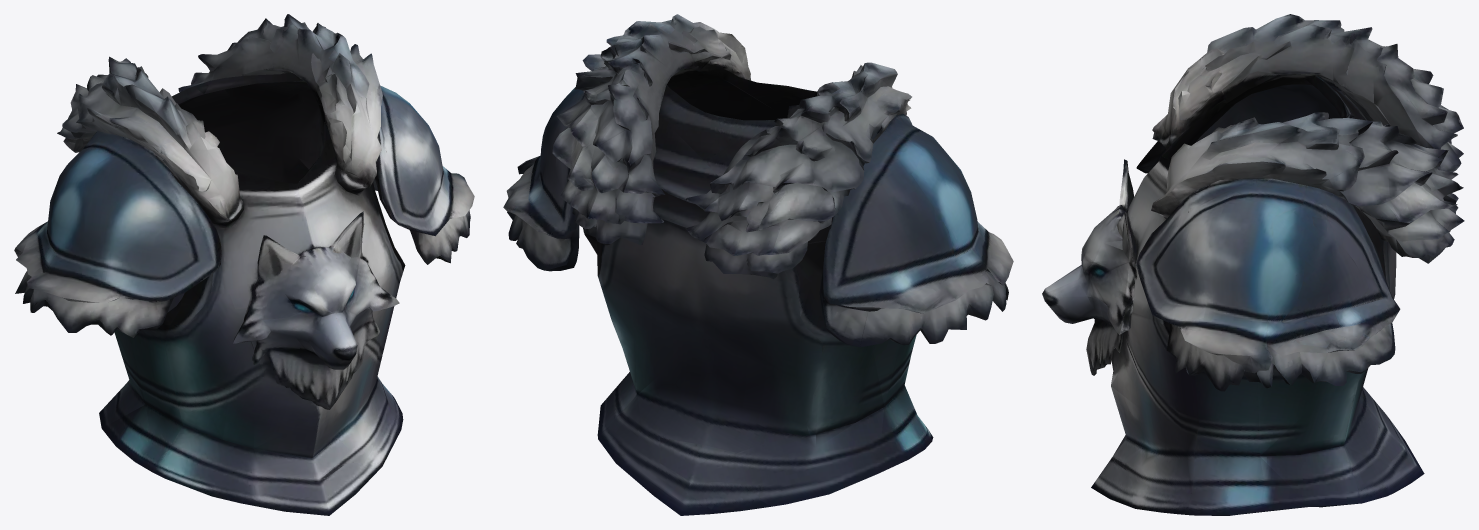
Rendered from moon_wolf_plate.glb.
3 renders of one model, left to right at view 1: azimuth 30°, elevation 25°; view 2: azimuth 150°, elevation 25°; view 3: azimuth 270°, elevation 25°, orthographic. The views are drawn at different scales.
Parts seen in each view (by area): view 1: world; view 2: world; view 3: world.
Part boxes in pixels (bbox=[...]): world: bbox=[14, 14, 474, 515]; world: bbox=[503, 14, 1013, 515]; world: bbox=[1042, 14, 1464, 515].
Size of the model in its own units: 0.5998 by 0.5123 by 0.4656.
Materials: 1 (1 with a texture image).
